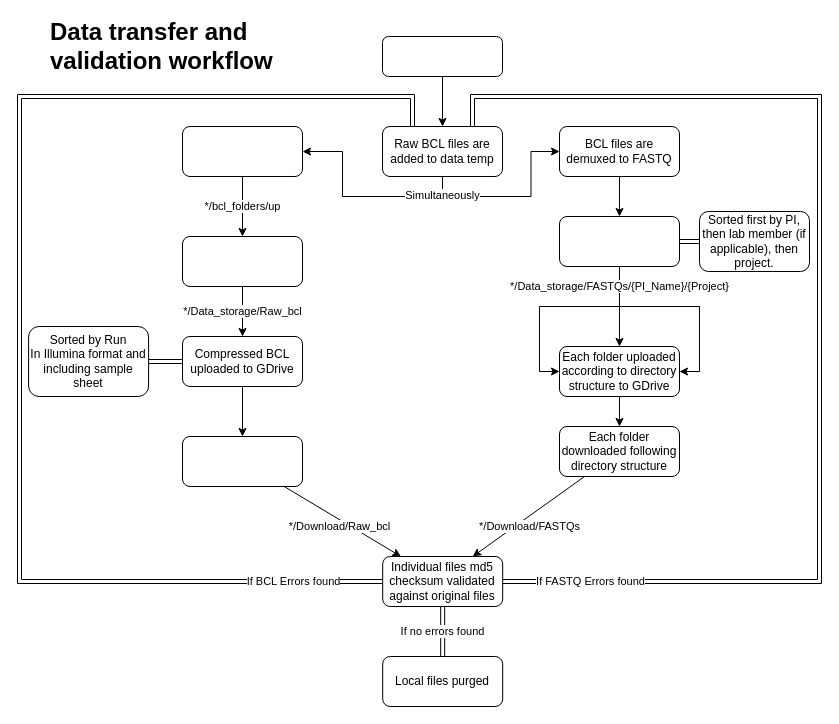
This 839x724 diagram has some shape labels left out. Here are the shapes that lost their labels. From the top down, the centre of each, then its label:
the point at 442,56: Sequencer Completes operations
the point at 242,151: Raw BCL folder transferred to waystation
the point at 242,261: BCL folder compressed
the point at 619,241: .fastq.gz files sorted and transferred to waystation
the point at 242,461: Compressed BCL downloaded to local drive and unpacked
